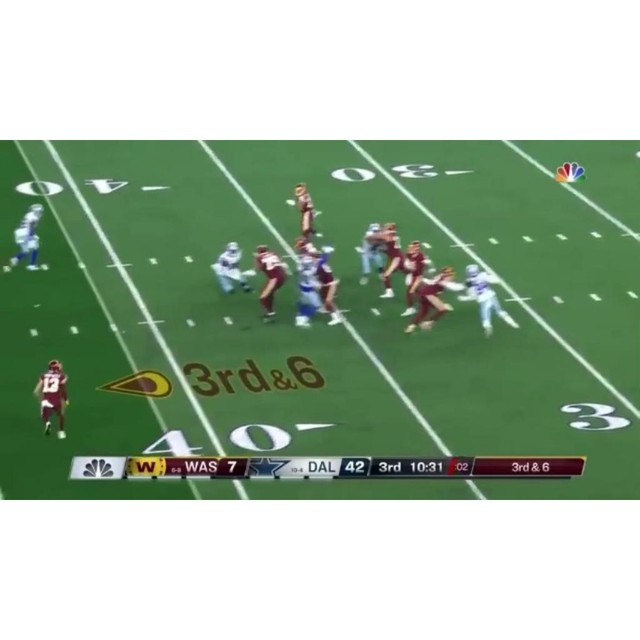american-football-player: (463, 264, 518, 339), (404, 266, 461, 336), (249, 244, 291, 321), (3, 204, 47, 274), (33, 359, 70, 439), (399, 241, 433, 317), (312, 252, 342, 325), (211, 241, 251, 295), (355, 223, 387, 288), (379, 224, 406, 299), (292, 182, 323, 244)
